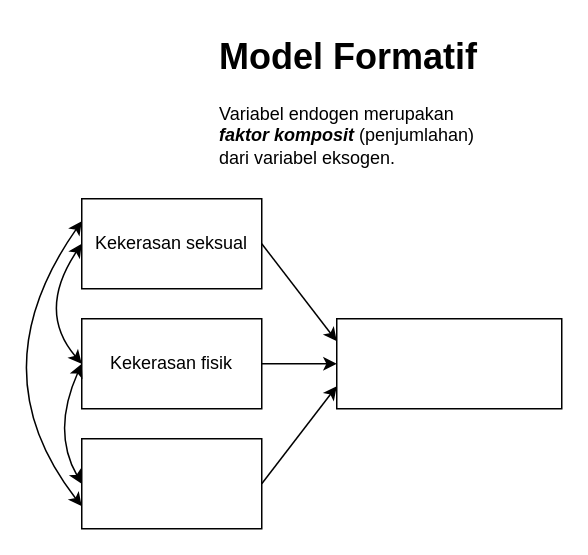
This 588x555 diagram has some shape labels left out. The box of each missing label's shape, as (x1, y1, x2, y2) in pixels:
Disfungsi keluarga: (80, 437, 262, 529)
Pengalaman masa kecil yang traumatis ( adverse childhood experiences ): (335, 317, 562, 409)
